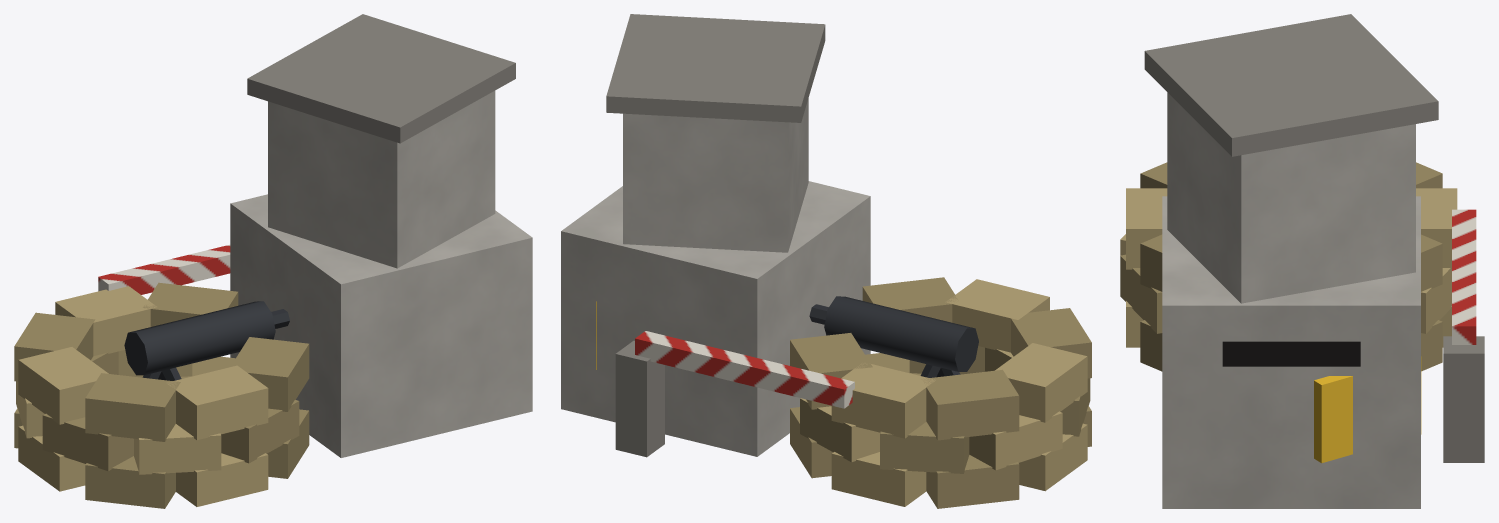
The model's file is fort_l5_post.glb.
3 views of the same model, side by side, from view 1: azimuth 30°, elevation 25°; view 2: azimuth 150°, elevation 25°; view 3: azimuth 270°, elevation 25° (orthographic). The views are drawn at different scales.
Visible parts, largest first — view 1: fort_l5_post; view 2: fort_l5_post; view 3: fort_l5_post.
Part boxes in pixels (left/top/right/bottom): fort_l5_post: left=14, top=14, right=532, bottom=508; fort_l5_post: left=561, top=14, right=1091, bottom=508; fort_l5_post: left=1120, top=14, right=1484, bottom=508.
Bounding box in the file's own units: 0.3588 × 0.2437 × 0.2114.
Materials: 1 (1 with a texture image).
